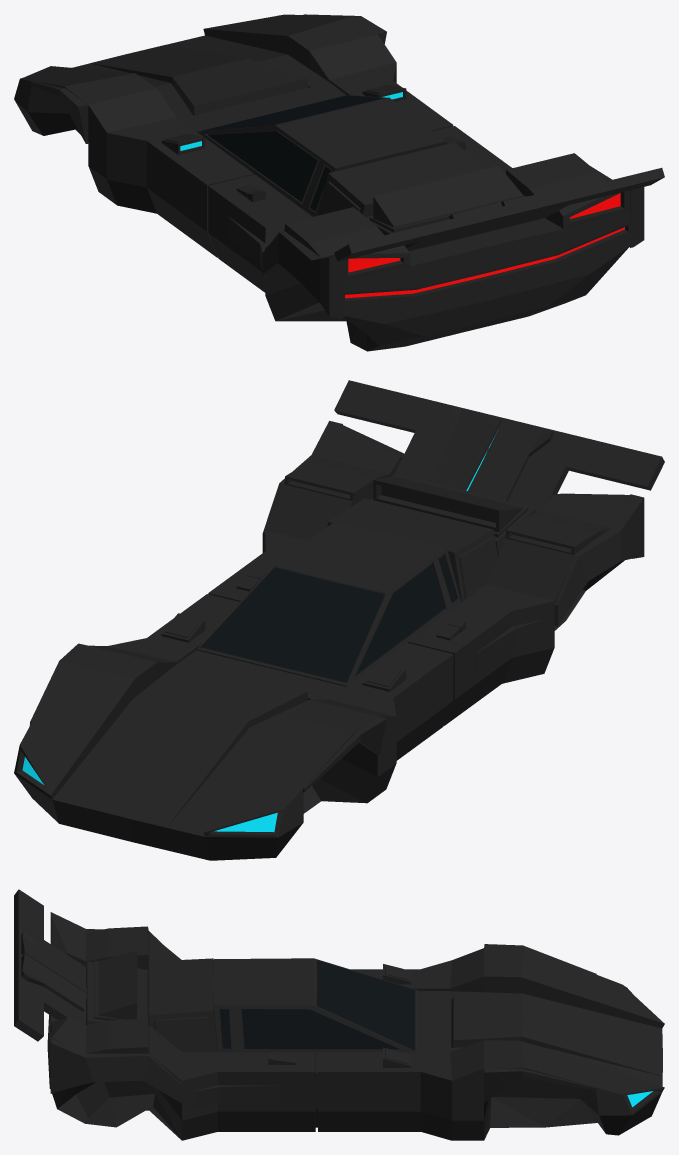
The model's file is chassis-draco.glb.
3 views of the same model, one above another, from view 1: azimuth 30°, elevation 25°; view 2: azimuth 150°, elevation 25°; view 3: azimuth 270°, elevation 25° (orthographic). The views are drawn at different scales.
Parts seen in each view (by area): view 1: Chassis; view 2: Chassis; view 3: Chassis.
Boxes of the visible parts, left/top/right/bottom form: Chassis: left=14, top=14, right=664, bottom=351; Chassis: left=14, top=380, right=664, bottom=860; Chassis: left=14, top=889, right=664, bottom=1140.
Bounding box in the file's own units: 0.2392 × 0.116 × 0.4971.
3 materials, 2 textured.
